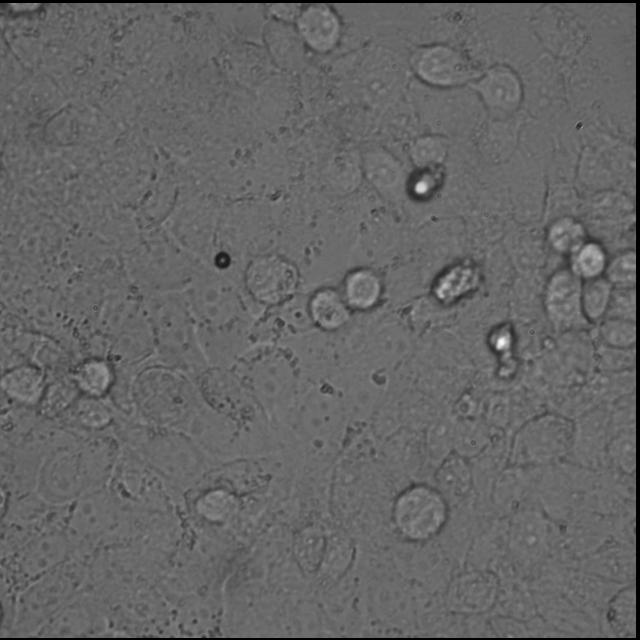microbeads: (212, 248, 234, 270)
